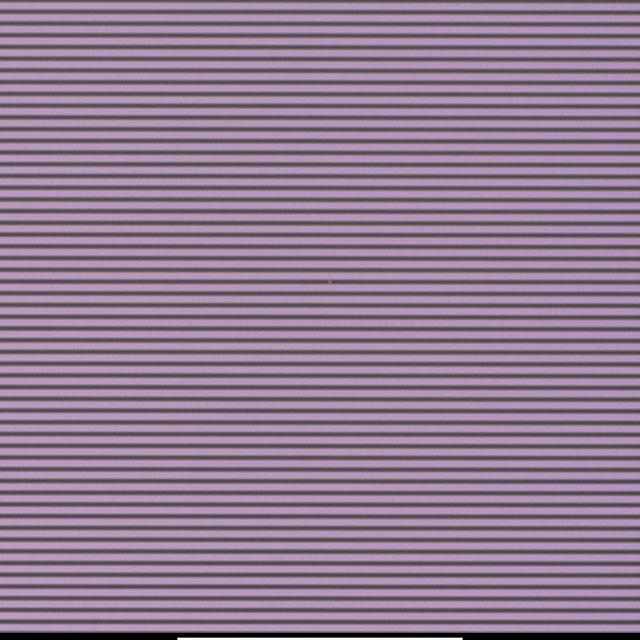03_intrusion: (328, 276, 335, 287)
